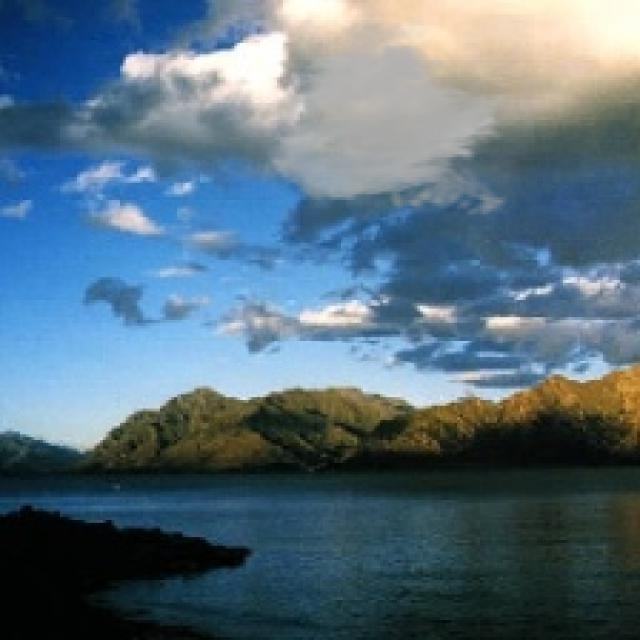smoke: (263, 14, 534, 223)
